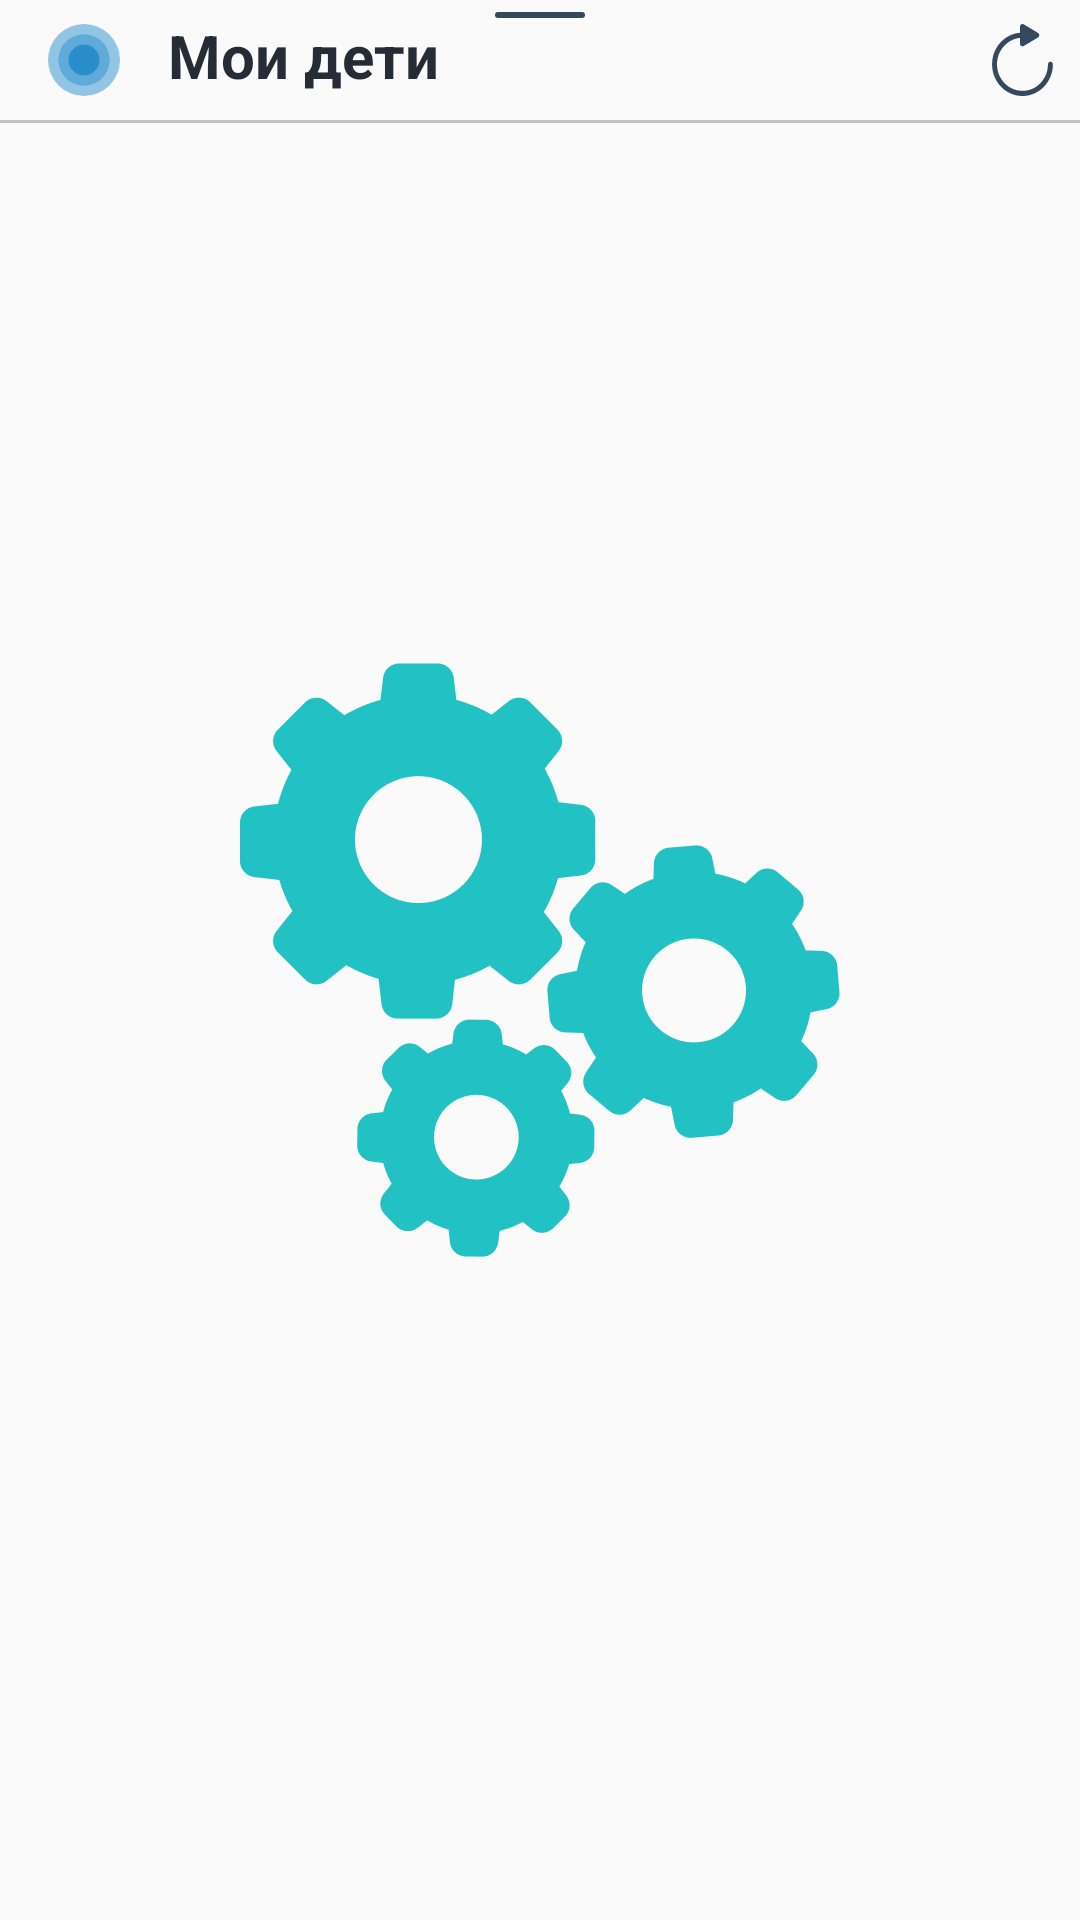

Icons on this 1080px×1920px Android screen, each with its box as (x1, y1, x2, y2):
reload: (992, 24, 1053, 96)
